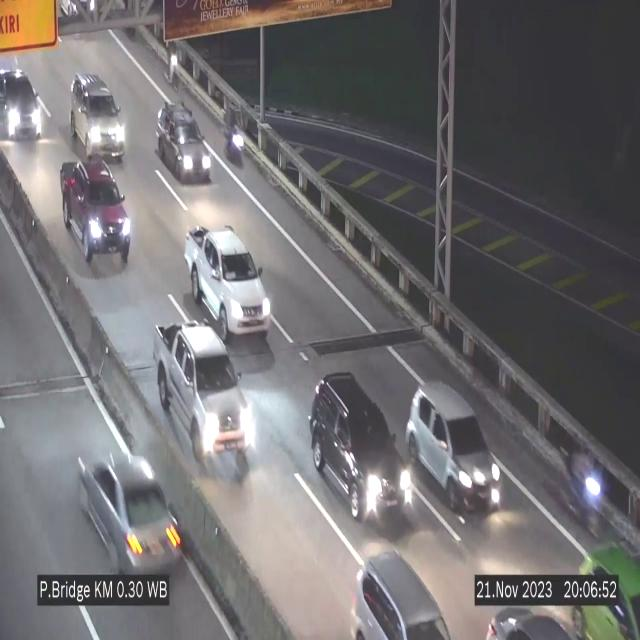Car: (304, 369, 414, 532), (77, 431, 189, 585), (153, 323, 249, 478), (406, 381, 500, 512), (334, 545, 446, 640), (184, 228, 272, 342), (561, 531, 640, 640), (61, 160, 131, 268), (71, 74, 126, 161), (157, 101, 211, 183), (471, 603, 584, 640), (0, 67, 43, 146)
Motorcycle: (566, 437, 604, 543), (164, 32, 186, 100), (227, 97, 247, 171)
